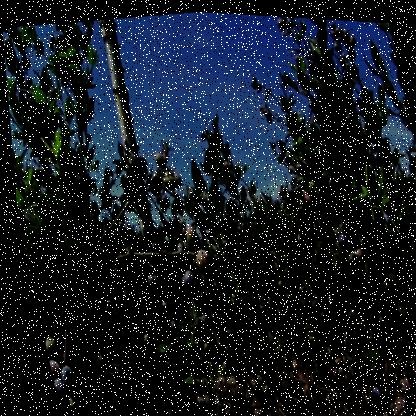intermediate: (44, 359, 59, 386), (299, 189, 312, 205)
mature: (51, 361, 73, 395), (172, 269, 195, 297), (139, 269, 161, 297), (171, 237, 190, 268), (143, 171, 161, 196), (331, 226, 348, 250), (161, 314, 176, 335), (364, 377, 377, 399), (371, 307, 384, 325)
young: (157, 166, 184, 193), (187, 245, 211, 275), (58, 386, 82, 416), (39, 332, 57, 362), (179, 220, 198, 248), (150, 148, 167, 171), (135, 327, 151, 348), (88, 369, 104, 390), (302, 172, 316, 192)
